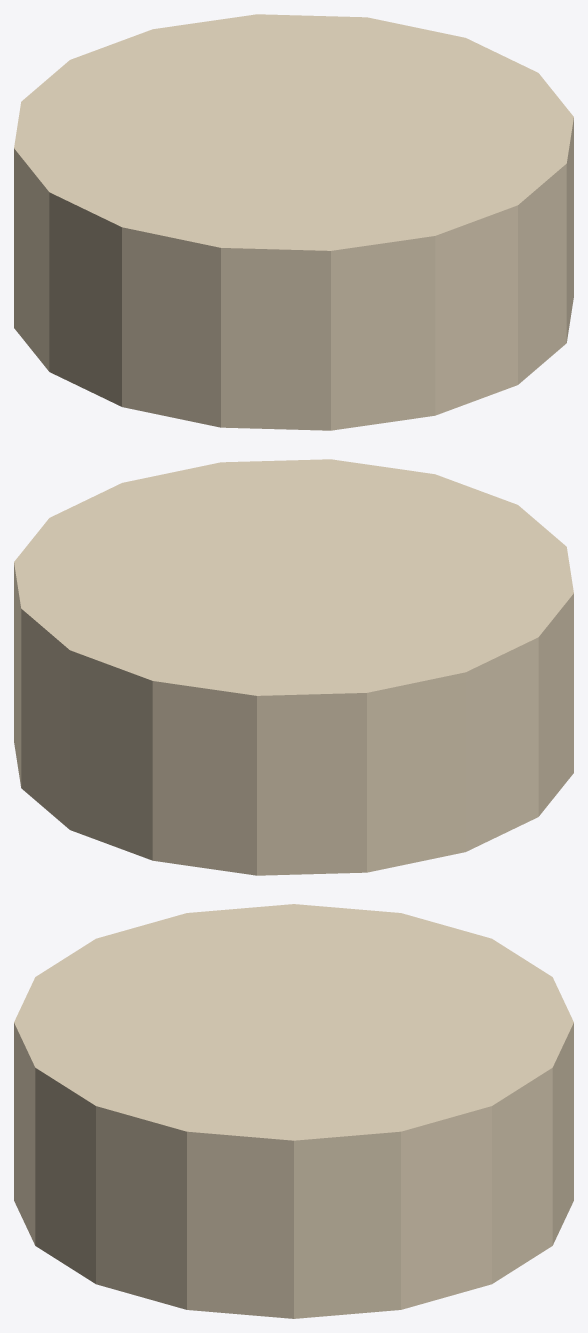
Rendered from Pressure_Plate.fbx.
3 renders of one model, top to bottom at view 1: azimuth 30°, elevation 25°; view 2: azimuth 150°, elevation 25°; view 3: azimuth 270°, elevation 25°, orthographic.
Parts seen in each view (by area): view 1: Pressure_Plate; view 2: Pressure_Plate; view 3: Pressure_Plate.
Part boxes in pixels (x1,y1,x2,y2): Pressure_Plate: (14,14,573,430); Pressure_Plate: (14,459,573,875); Pressure_Plate: (14,904,573,1318).
Bounding box in the file's own units: 77.38 × 27.18 × 77.38.
